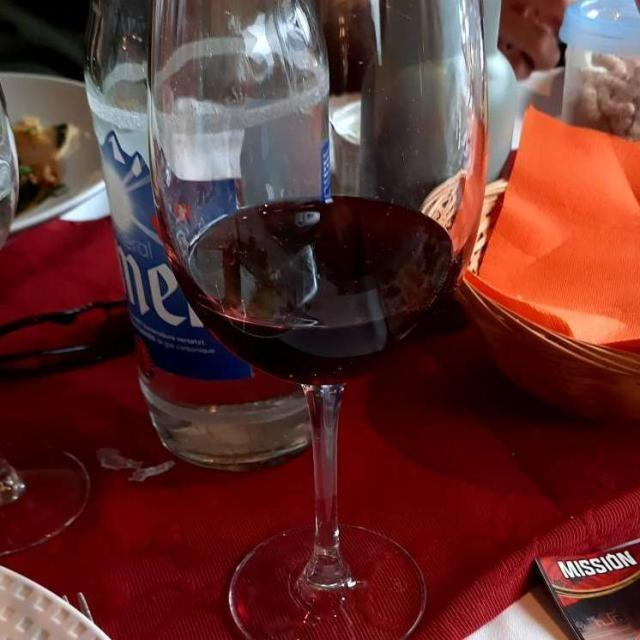wine: (186, 199, 451, 375)
